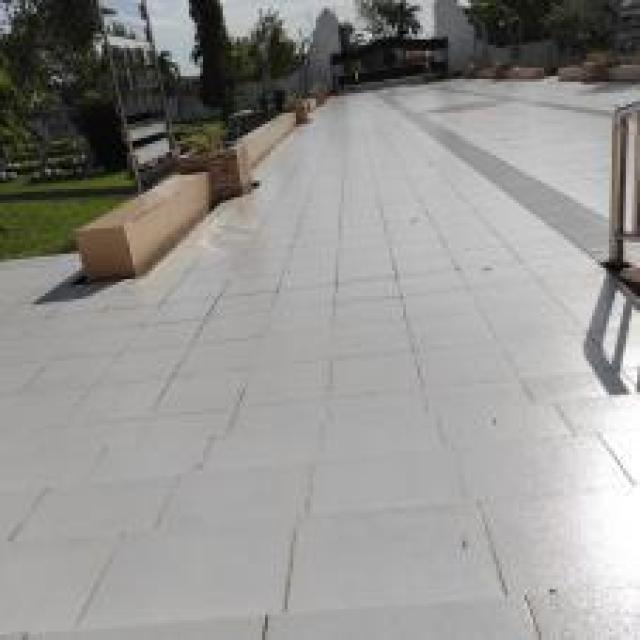downstair: (12, 444, 616, 638)
